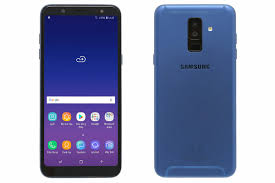samsung: (35, 1, 125, 179), (149, 5, 239, 183)
